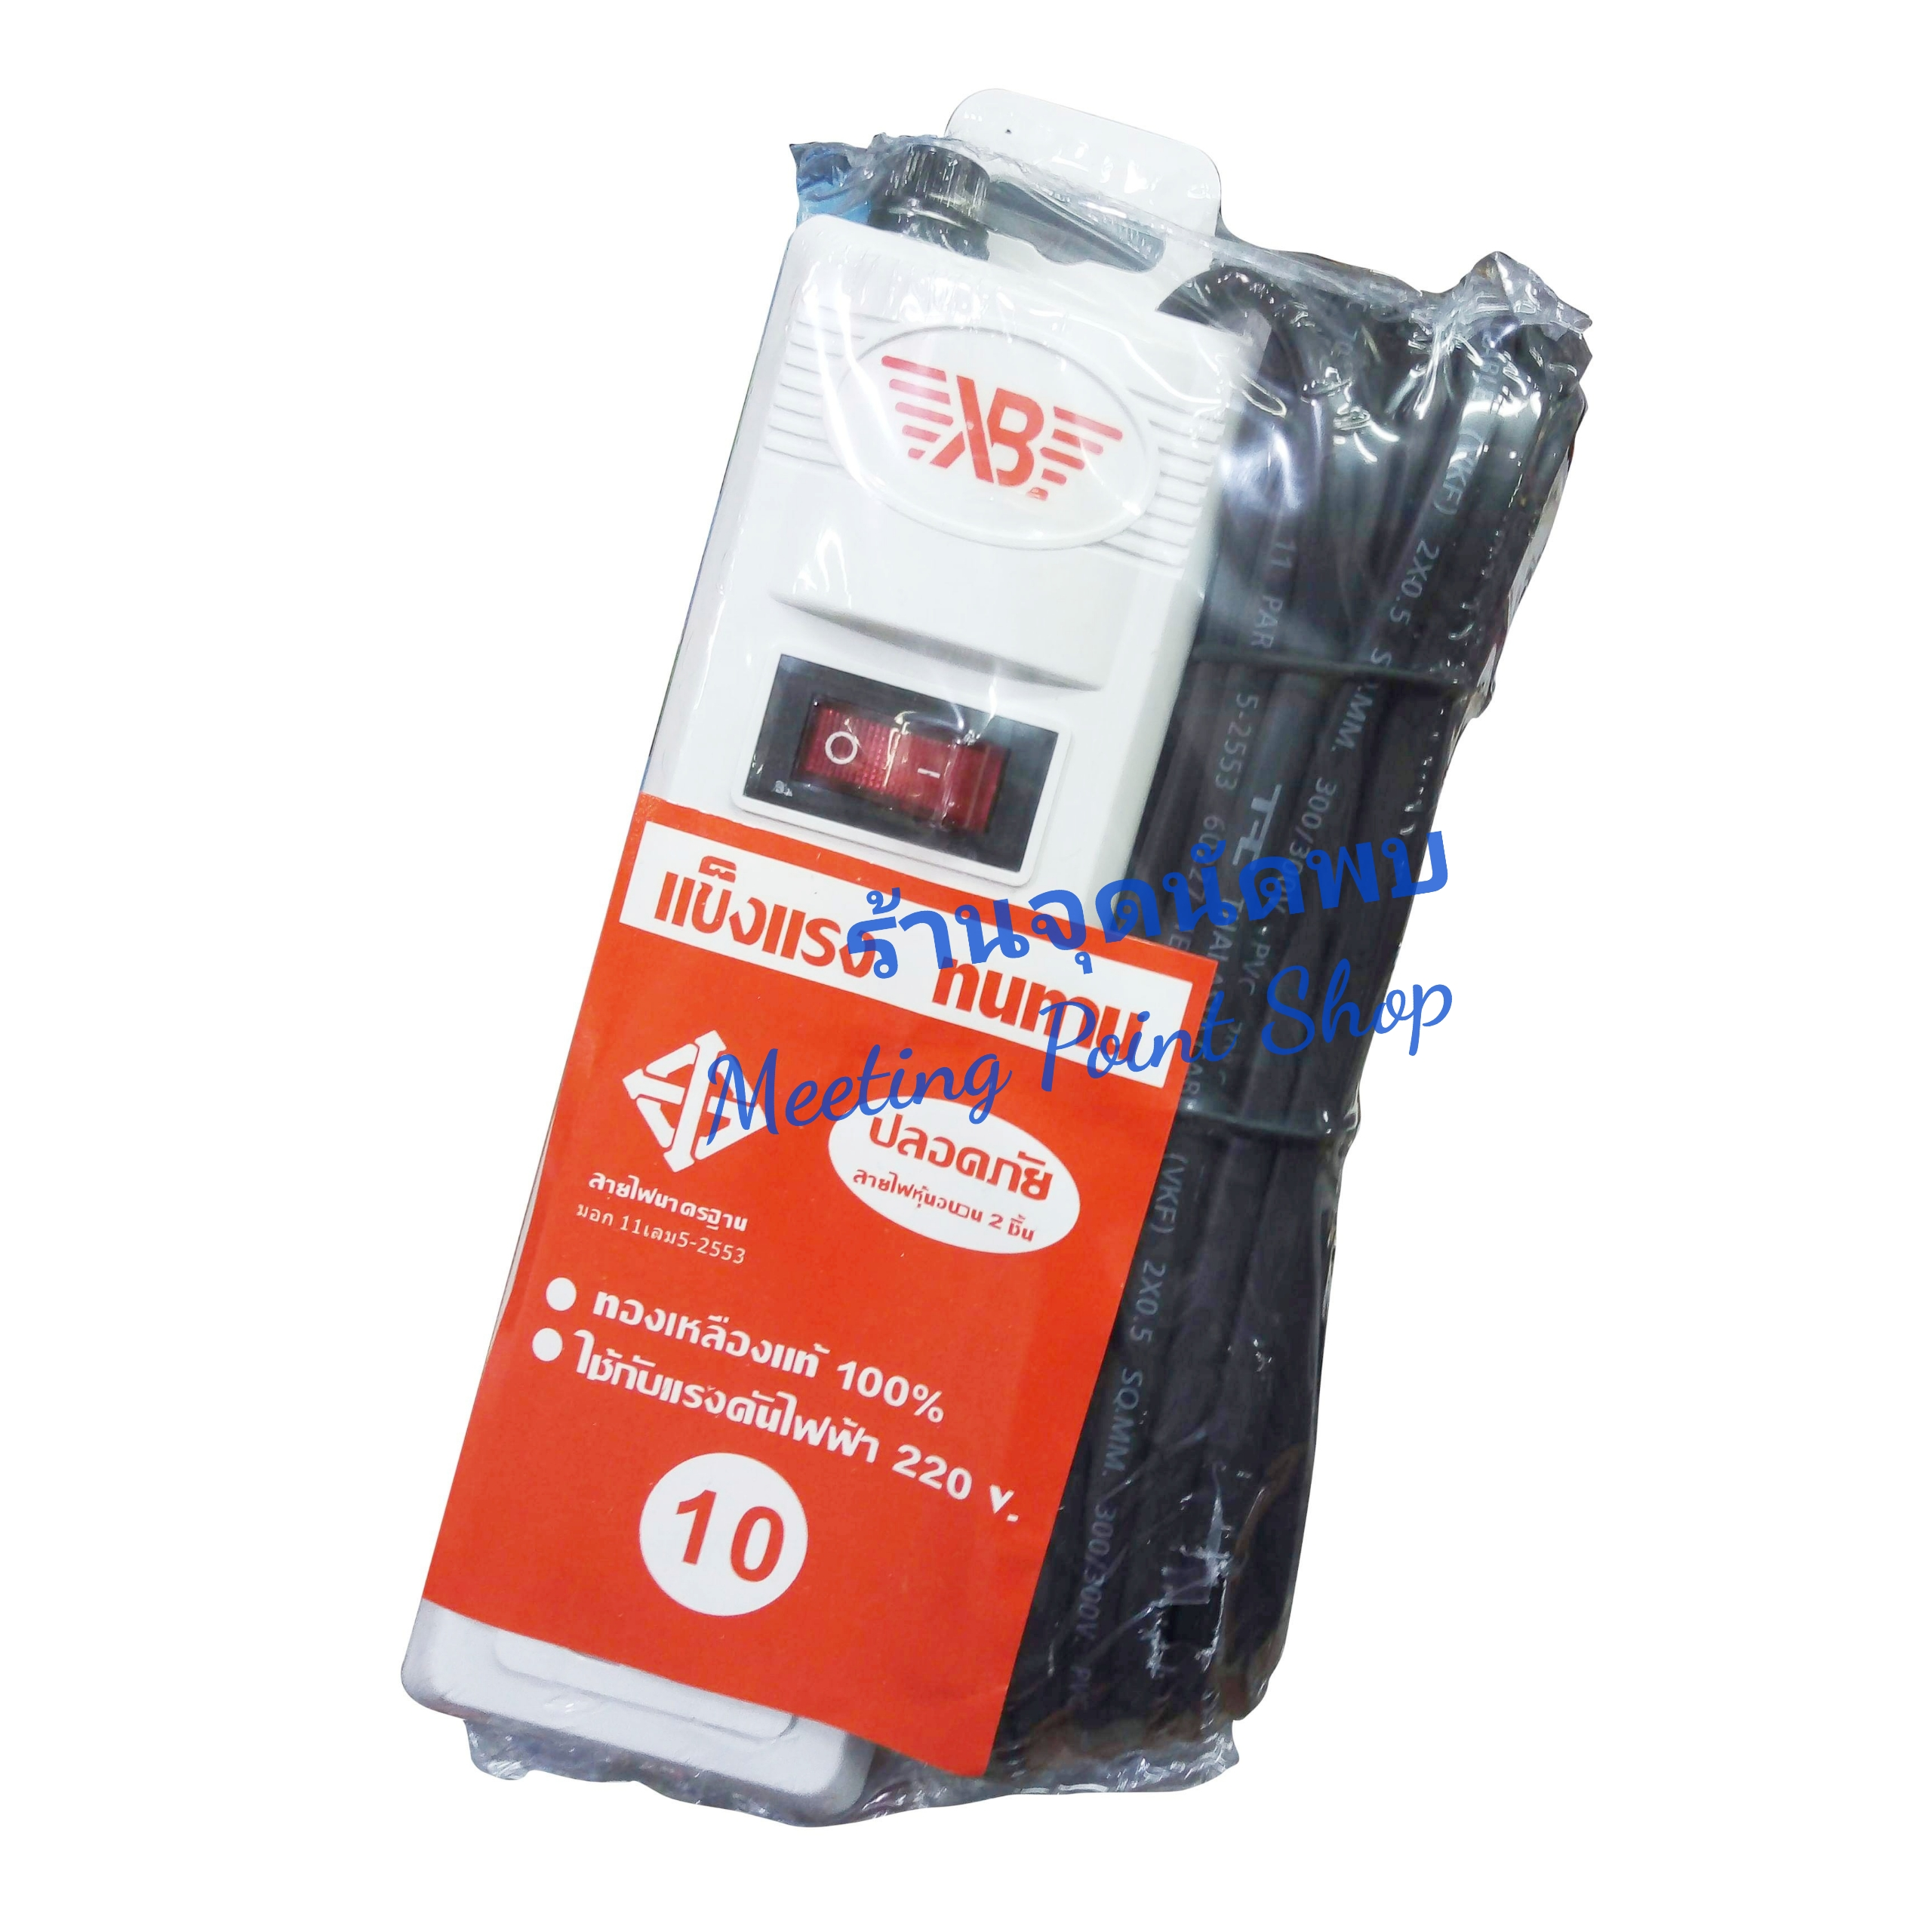Three_eye_plug: (373, 97, 1557, 1845)
